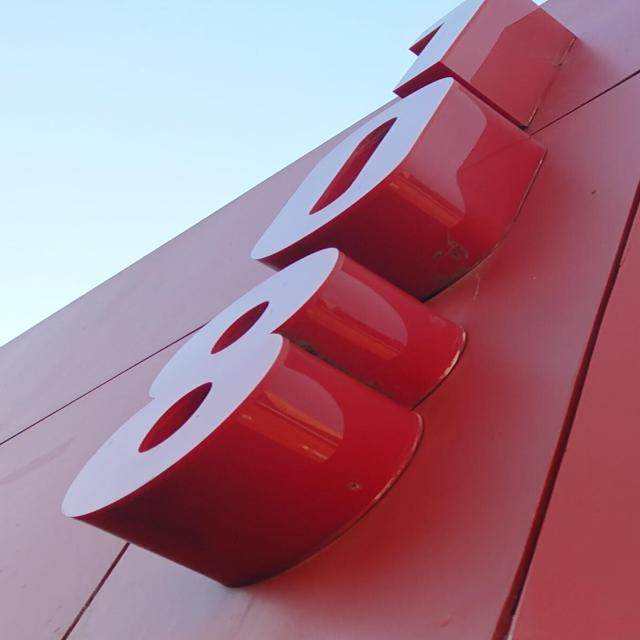character: (59, 243, 351, 526), (244, 72, 461, 264), (385, 0, 491, 94)
